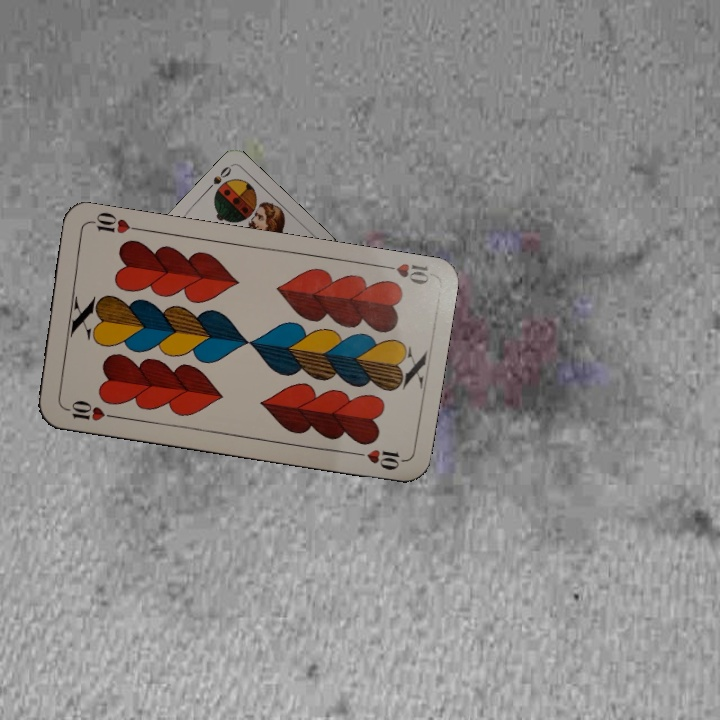H10: (59, 396, 118, 424), (375, 259, 432, 287)
SO: (203, 161, 234, 194)
